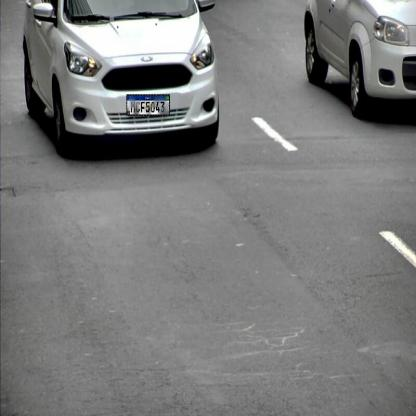PlacaM: (126, 94, 170, 116)
